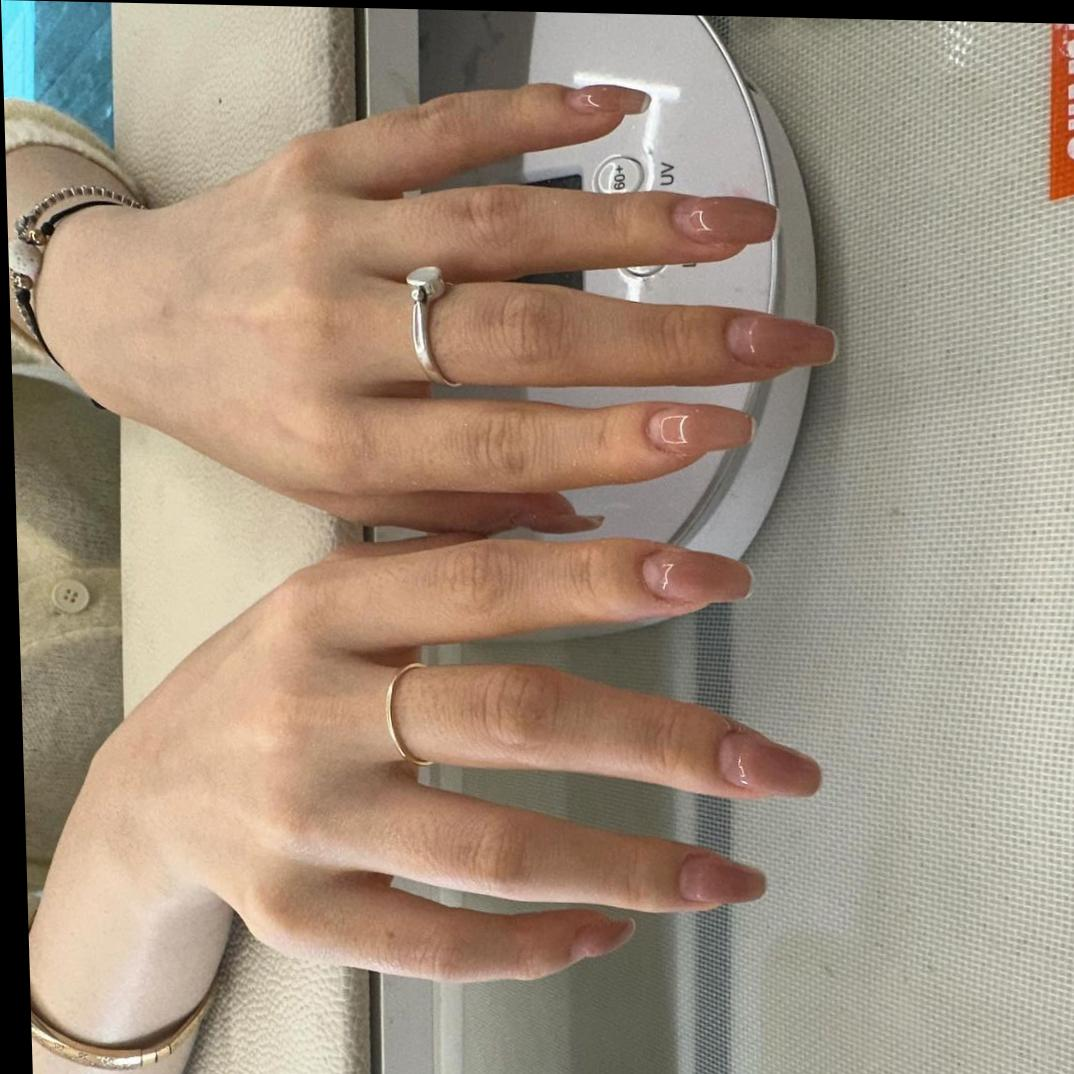nail: (714, 731, 820, 800), (638, 547, 752, 606), (722, 315, 837, 371), (643, 404, 754, 456), (669, 196, 778, 247), (674, 853, 765, 907), (567, 916, 636, 963), (562, 84, 650, 117)
